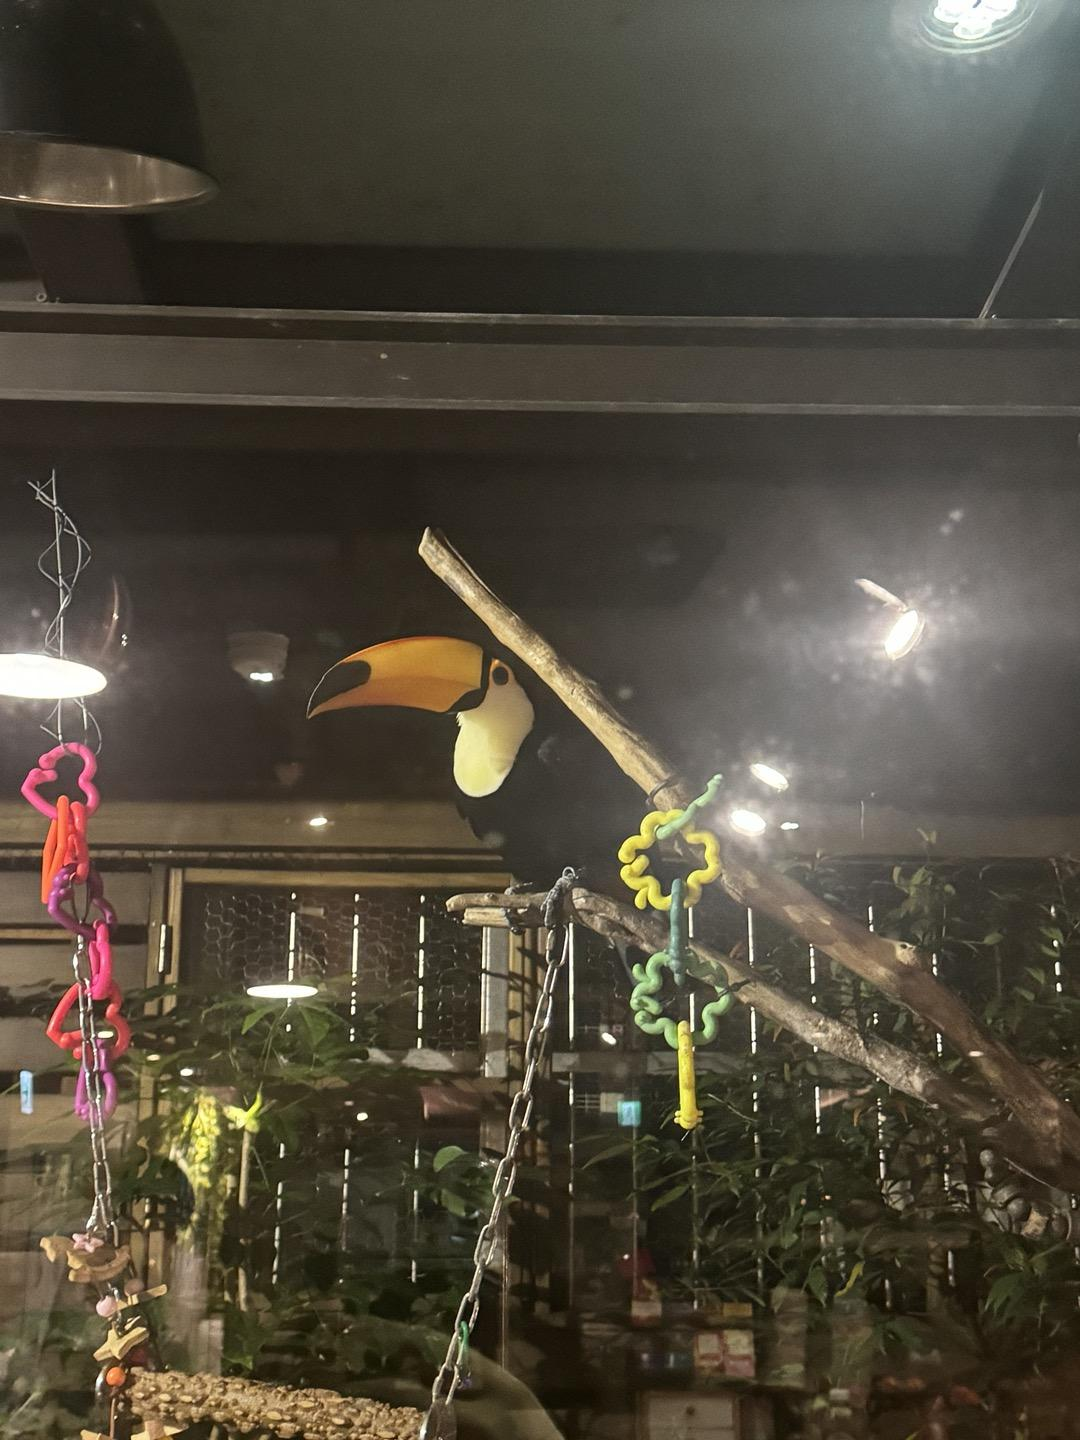bird: (297, 625, 660, 903)
